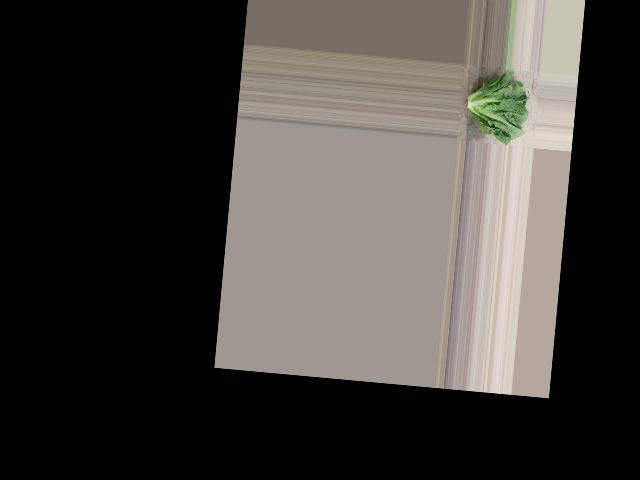lettuce: (458, 66, 534, 144)
